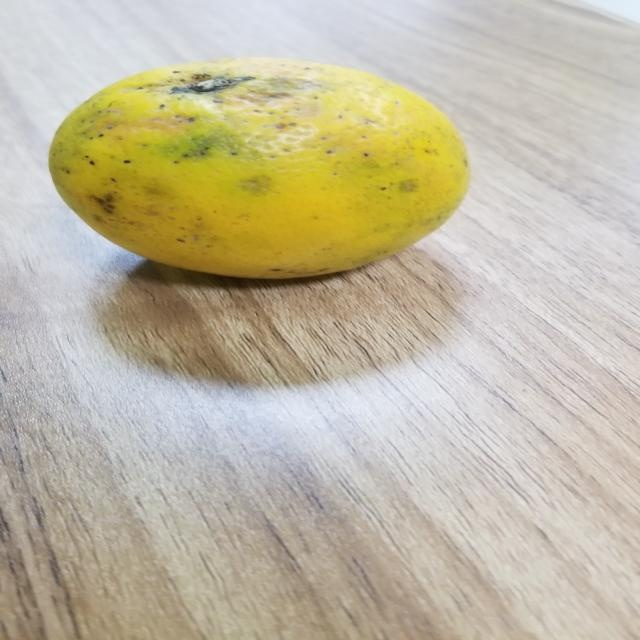agrume: (36, 51, 496, 286)
